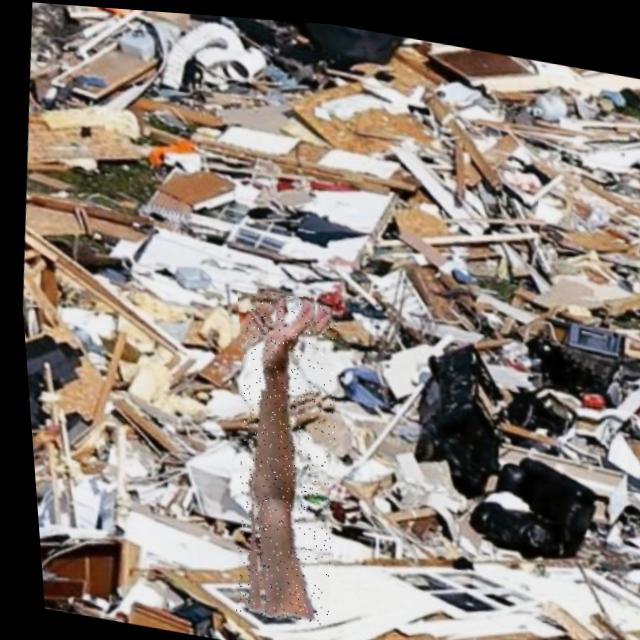Person in Rubble: (207, 280, 354, 625)
